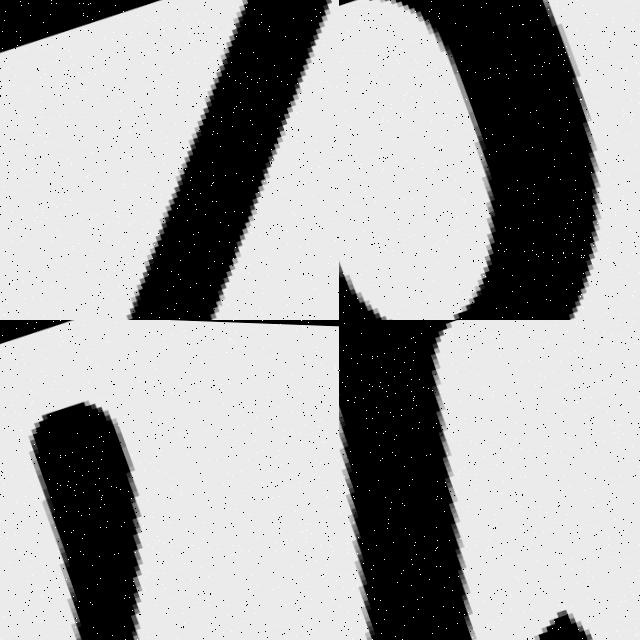0: (339, 0, 640, 320)
1: (339, 320, 640, 640)
7: (0, 347, 339, 640)
Z: (0, 0, 339, 320)
